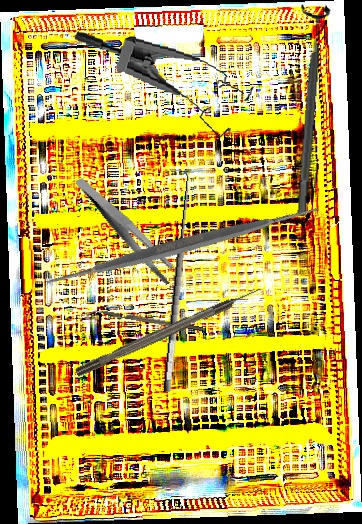Chopper: (87, 307, 203, 337)
Dressing Forceps: (74, 159, 180, 301)
Fixation Ring: (285, 3, 333, 218)
Hook Surgical: (73, 284, 264, 378), (145, 169, 197, 393)
Spatula Surgical: (34, 96, 332, 396)
Speculum: (64, 29, 259, 141)
